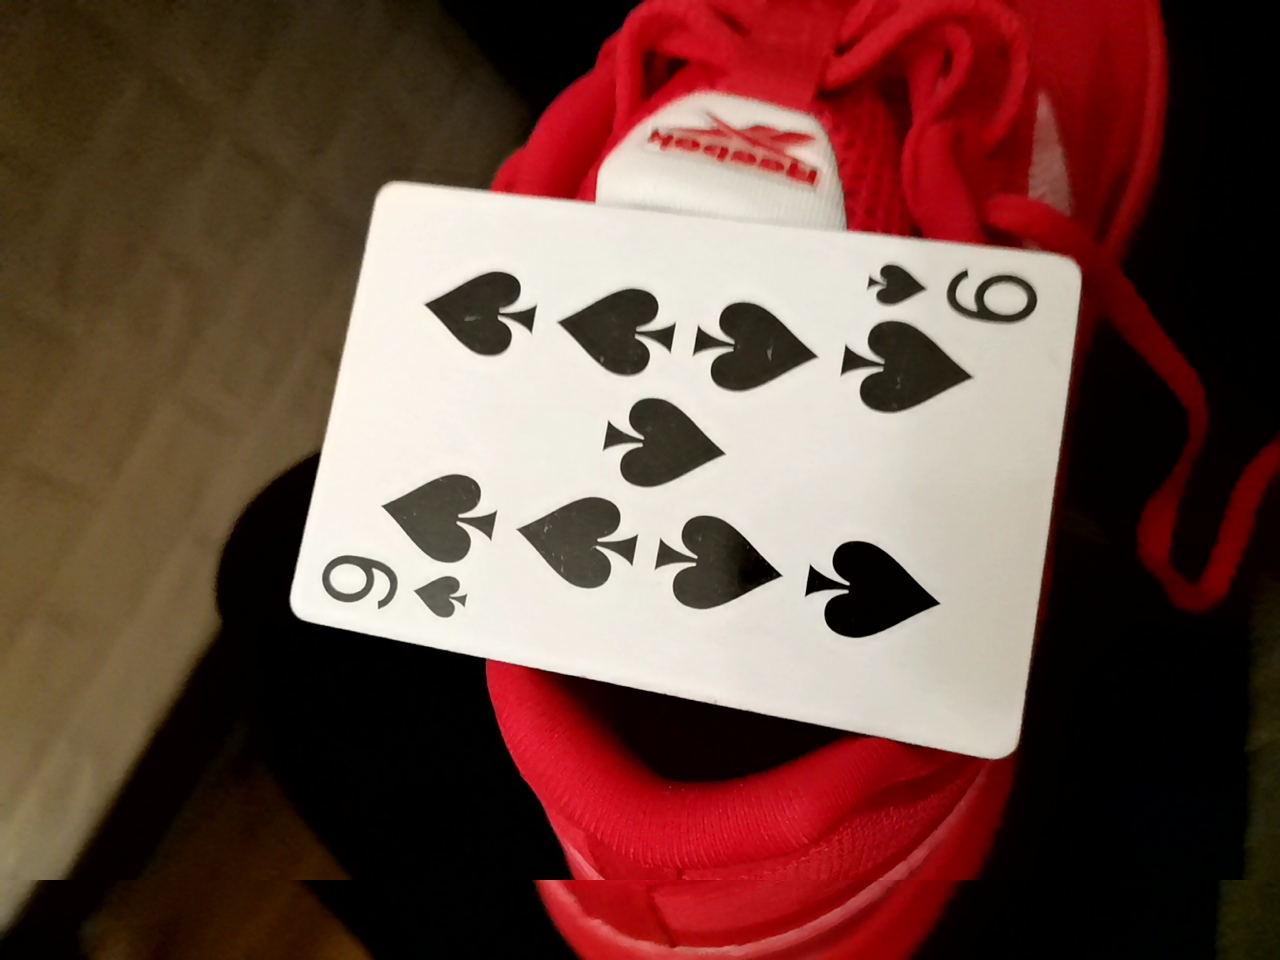ht 9: (268, 176, 1067, 768)
